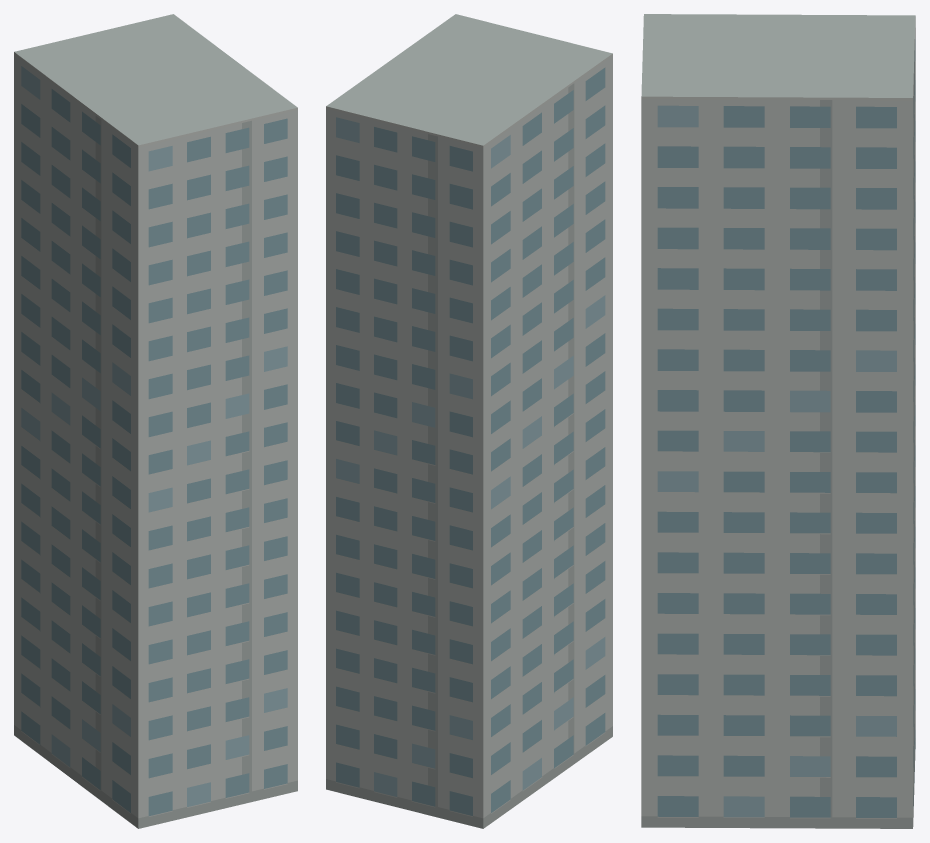
File: residential-3f9dcc24-2ba7-4de2-8470-feb0ef0cfc2c.glb
3 views of the same model, side by side, from view 1: azimuth 30°, elevation 25°; view 2: azimuth 150°, elevation 25°; view 3: azimuth 270°, elevation 25° (orthographic). The views are drawn at different scales.
Parts seen in each view (by area): view 1: residential-3f9dcc24-2ba7-4de2-8470-feb0ef0cfc2c.tmp; view 2: residential-3f9dcc24-2ba7-4de2-8470-feb0ef0cfc2c.tmp; view 3: residential-3f9dcc24-2ba7-4de2-8470-feb0ef0cfc2c.tmp.
Boxes of the visible parts, box(x1,y1,x2,y2) form: residential-3f9dcc24-2ba7-4de2-8470-feb0ef0cfc2c.tmp: box(14, 14, 297, 828); residential-3f9dcc24-2ba7-4de2-8470-feb0ef0cfc2c.tmp: box(326, 14, 612, 828); residential-3f9dcc24-2ba7-4de2-8470-feb0ef0cfc2c.tmp: box(641, 14, 915, 828).
Size of the model in its own units: 19.24 by 78 by 26.52.
